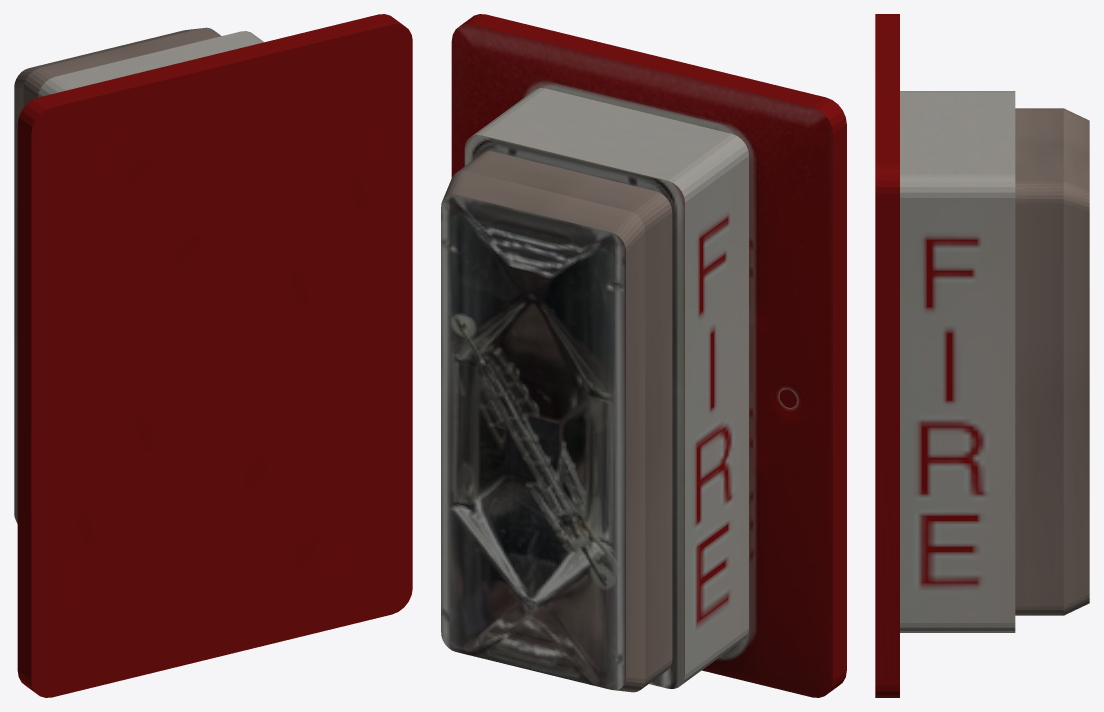
Rendered from edwards_est_202_8a_strobe.obj.
The picture shows the model from 3 angles, left to right: view 1: azimuth 30°, elevation 25°; view 2: azimuth 150°, elevation 25°; view 3: azimuth 270°, elevation 25°; orthographic projection. The views are drawn at different scales.
Parts seen in each view (by area): view 1: edwards_est_202_8a_strobe; view 2: edwards_est_202_8a_strobe; view 3: edwards_est_202_8a_strobe.
Boxes of the visible parts, x1,y1,x2,y2 form: edwards_est_202_8a_strobe: (14, 14, 412, 697); edwards_est_202_8a_strobe: (441, 14, 846, 697); edwards_est_202_8a_strobe: (875, 14, 1089, 697).
Bounding box in the file's own units: 0.6012 × 0.8887 × 0.325.
